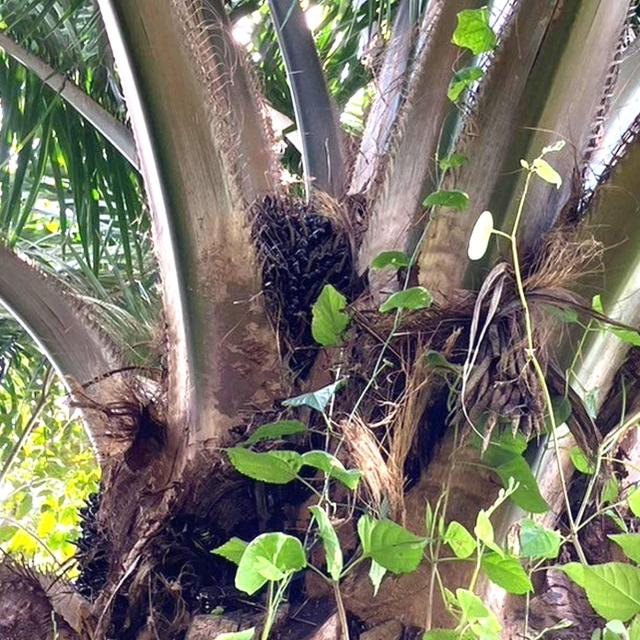unripe: (258, 198, 349, 345)
